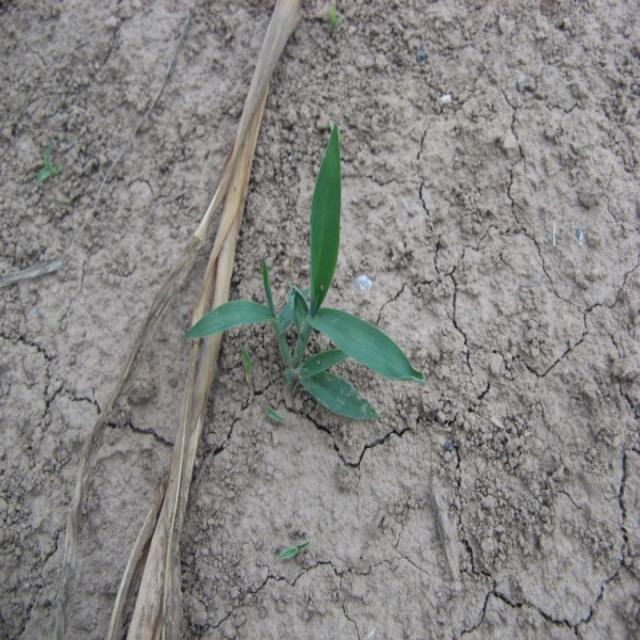bg: (182, 135, 421, 423)
